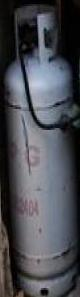cylinder: (0, 1, 80, 297)
